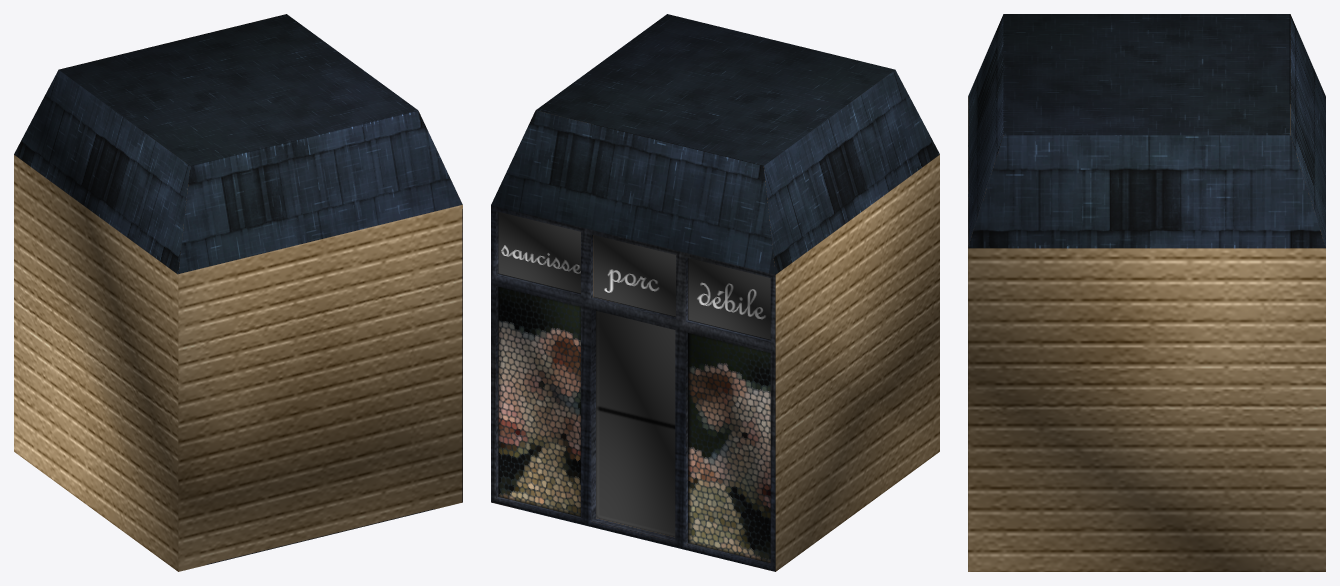
File: building_18.obj
3 views of the same model, side by side, from view 1: azimuth 30°, elevation 25°; view 2: azimuth 150°, elevation 25°; view 3: azimuth 270°, elevation 25° (orthographic). The views are drawn at different scales.
Visible parts, largest first — view 1: Cube3_copy12; view 2: Cube3_copy12; view 3: Cube3_copy12.
Boxes of the visible parts, x1,y1,x2,y2 form: Cube3_copy12: [14, 14, 462, 571]; Cube3_copy12: [491, 14, 939, 571]; Cube3_copy12: [968, 14, 1325, 571].
Bounding box in the file's own units: 274 × 356 × 274.
Materials: 1 (1 with a texture image).
